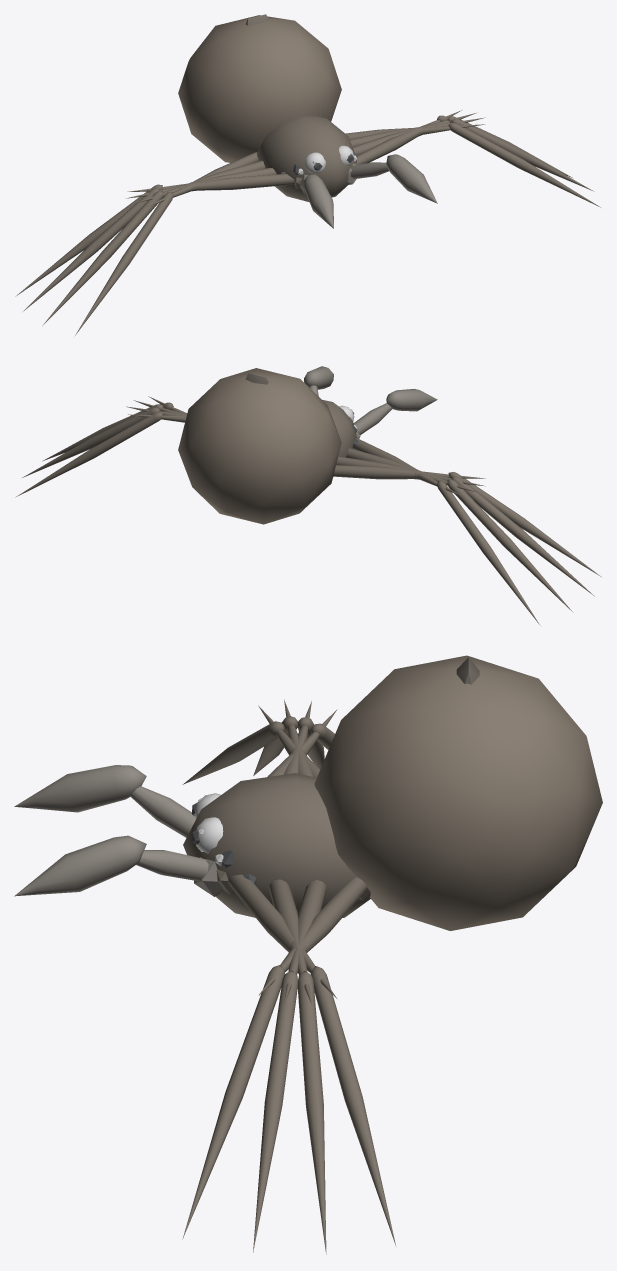
File: oedignatha-scrobiculata.glb
3 views of the same model, one above another, from view 1: azimuth 30°, elevation 25°; view 2: azimuth 150°, elevation 25°; view 3: azimuth 270°, elevation 25° (orthographic). The views are drawn at different scales.
Parts seen in each view (by area): view 1: abdomen, cephalothorax, leg0-r0, leg3-r0, leg2-r0, leg3-l0, leg1-r0, leg2-l0, palp-l1, palp-r1, leg0-l0, leg1-l0 (+1 smaller); view 2: abdomen, leg3-r0, leg1-r0, leg2-r0, leg0-r0, leg0-l0, leg1-l0, palp-r1, cephalothorax, leg2-l0, palp-r0, palp-l1; view 3: abdomen, cephalothorax, leg0-l0, leg3-l0, leg1-l0, leg2-l0, palp-l1, palp-r1, leg3-r0, palp-l0, palp-r0, leg2-r0 (+3 smaller).
Part boxes in pixels (x1,y1,x2,y2): abdomen: (178,14,341,162); cephalothorax: (257,115,356,202); leg0-r0: (15,174,294,296); leg3-r0: (75,152,258,335); leg2-r0: (42,160,265,325); leg3-l0: (345,123,600,207); leg1-r0: (23,168,276,311); leg2-l0: (350,117,594,191); palp-l1: (386,154,437,203); palp-r1: (304,174,333,228); leg0-l0: (356,110,461,164); leg1-l0: (352,113,572,177); abdomen: (178,368,341,524); leg3-r0: (333,465,601,576); leg1-r0: (346,448,573,612); leg2-r0: (336,456,594,596); leg0-r0: (353,438,540,625); leg0-l0: (15,412,186,497); leg1-l0: (22,406,186,477); palp-r1: (386,389,437,411); cephalothorax: (322,400,360,457); leg2-l0: (42,400,186,461); palp-r0: (353,403,392,434); palp-l1: (304,366,333,389); abdomen: (314,655,602,930); cephalothorax: (183,773,370,917); leg0-l0: (228,874,396,1246); leg3-l0: (182,877,367,1239); leg1-l0: (269,879,326,1254); leg2-l0: (253,880,326,1252); palp-l1: (14,835,146,896); palp-r1: (14,765,146,812); leg3-r0: (182,705,319,784); palp-l0: (136,850,208,881); palp-r0: (130,786,195,837); leg2-r0: (253,699,312,776).
Size of the model in its own units: 0.9039 by 0.3147 by 0.4713.
